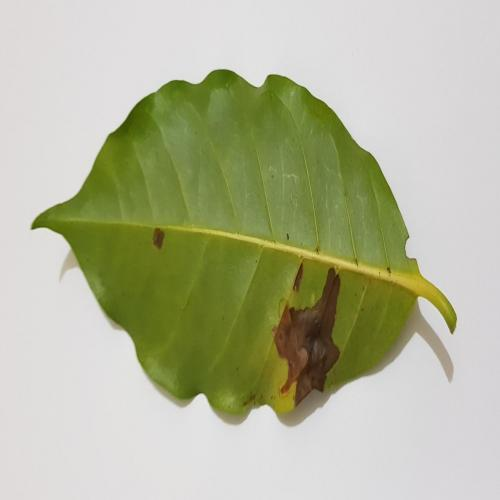leaf: (154, 229, 164, 248)
